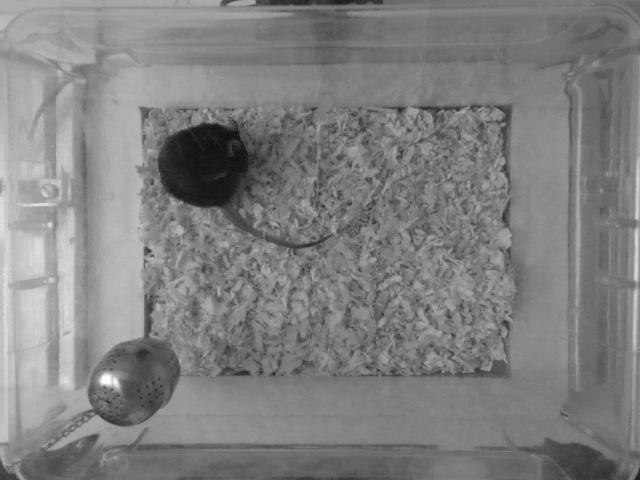mice: (154, 113, 335, 252)
